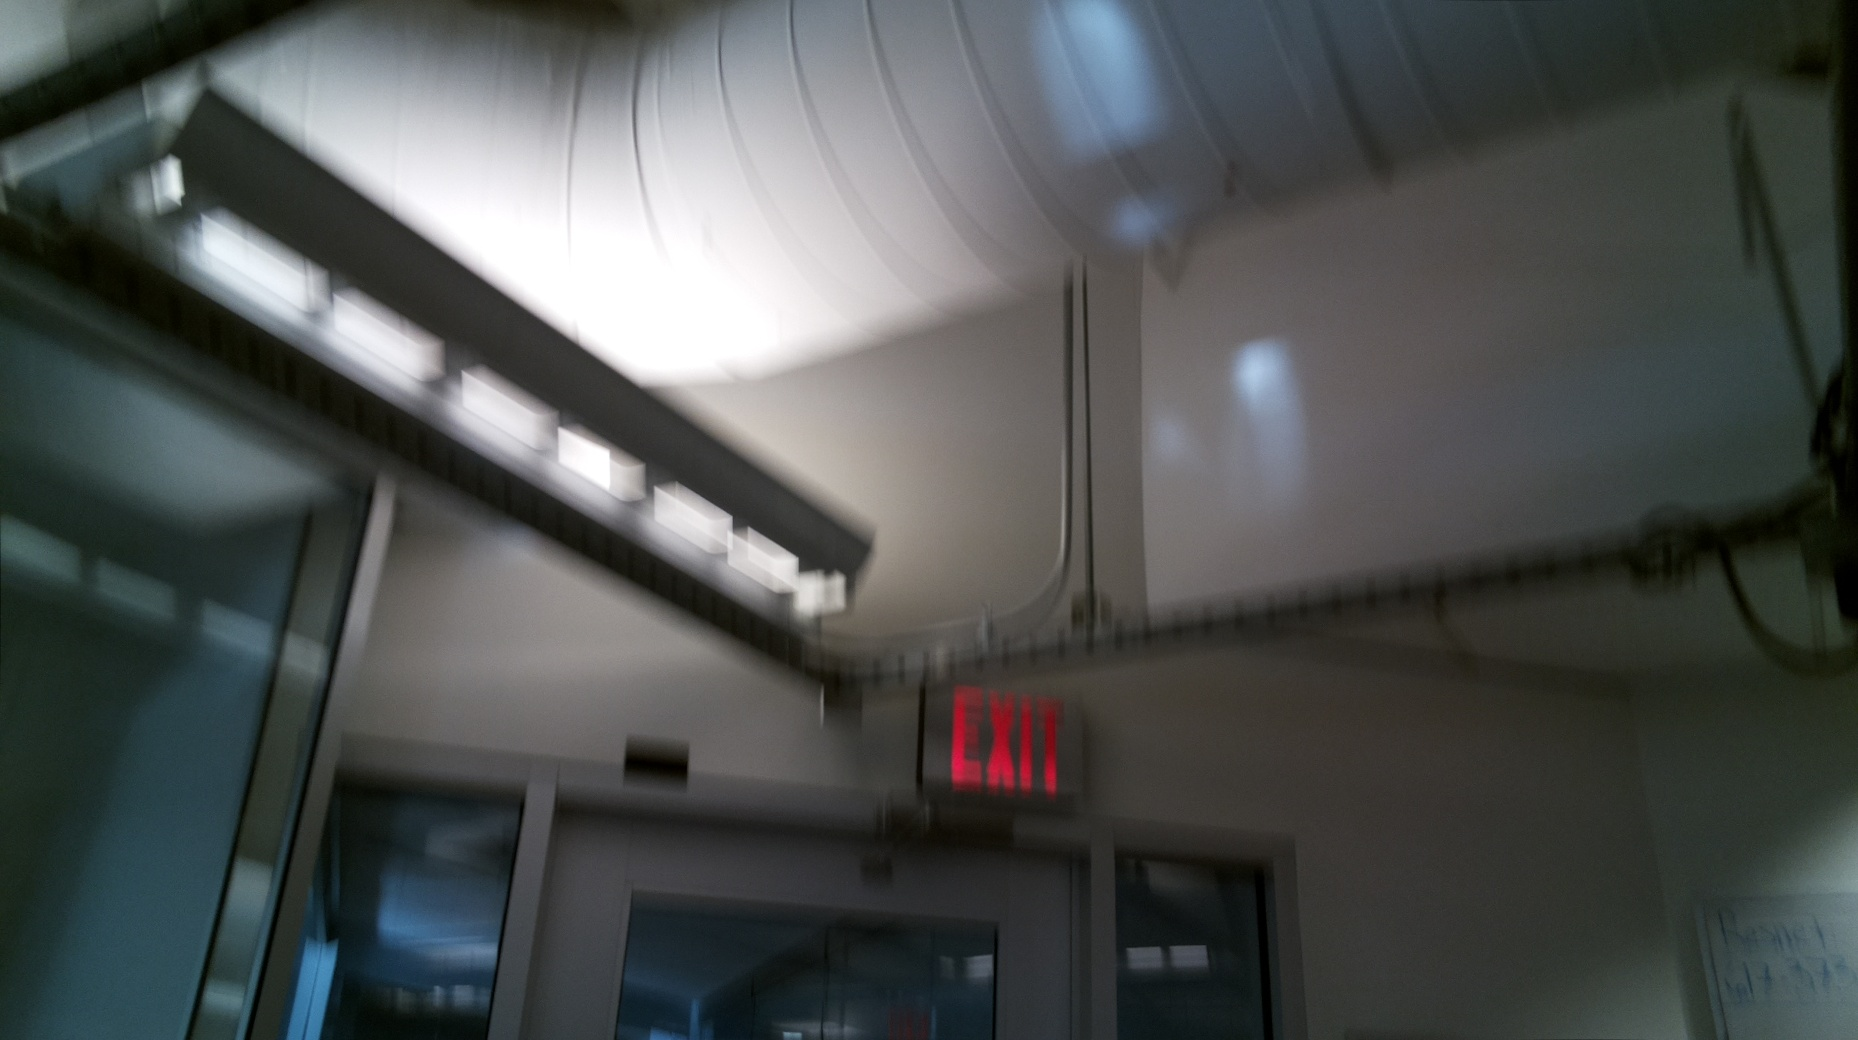exit sign: (906, 678, 1095, 812)
